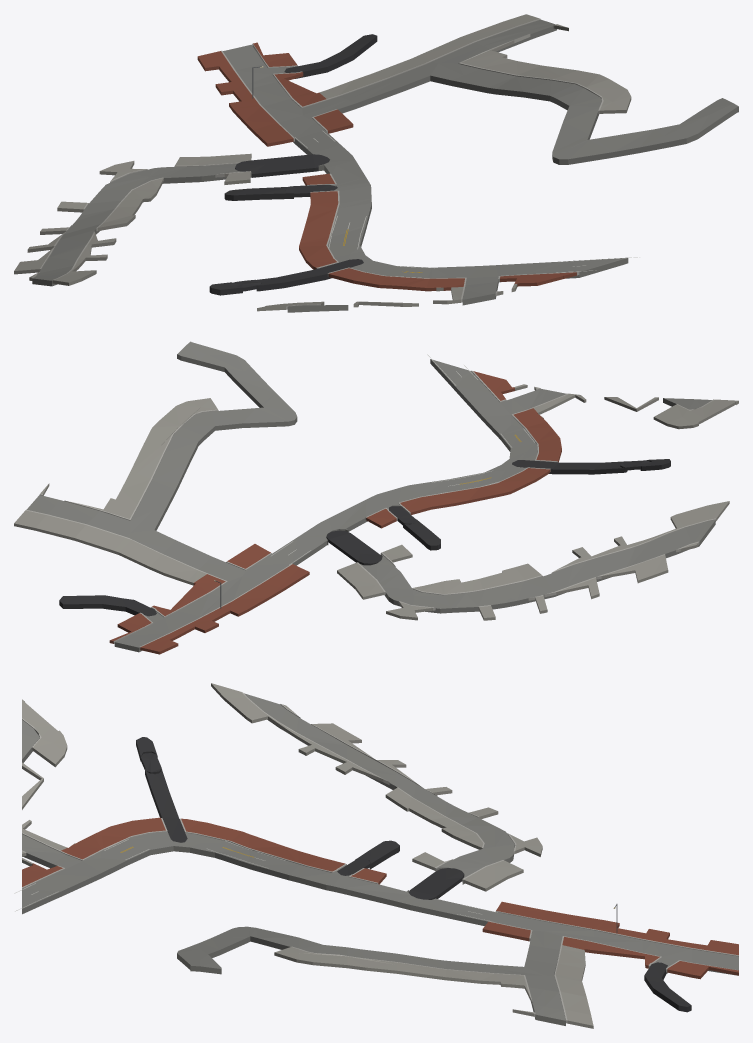
The picture shows the model from 3 angles, top to bottom: view 1: azimuth 30°, elevation 25°; view 2: azimuth 150°, elevation 25°; view 3: azimuth 270°, elevation 25°; orthographic projection. The views are drawn at different scales.
Bounding box in the file's own units: 147 × 23.41 × 147.
